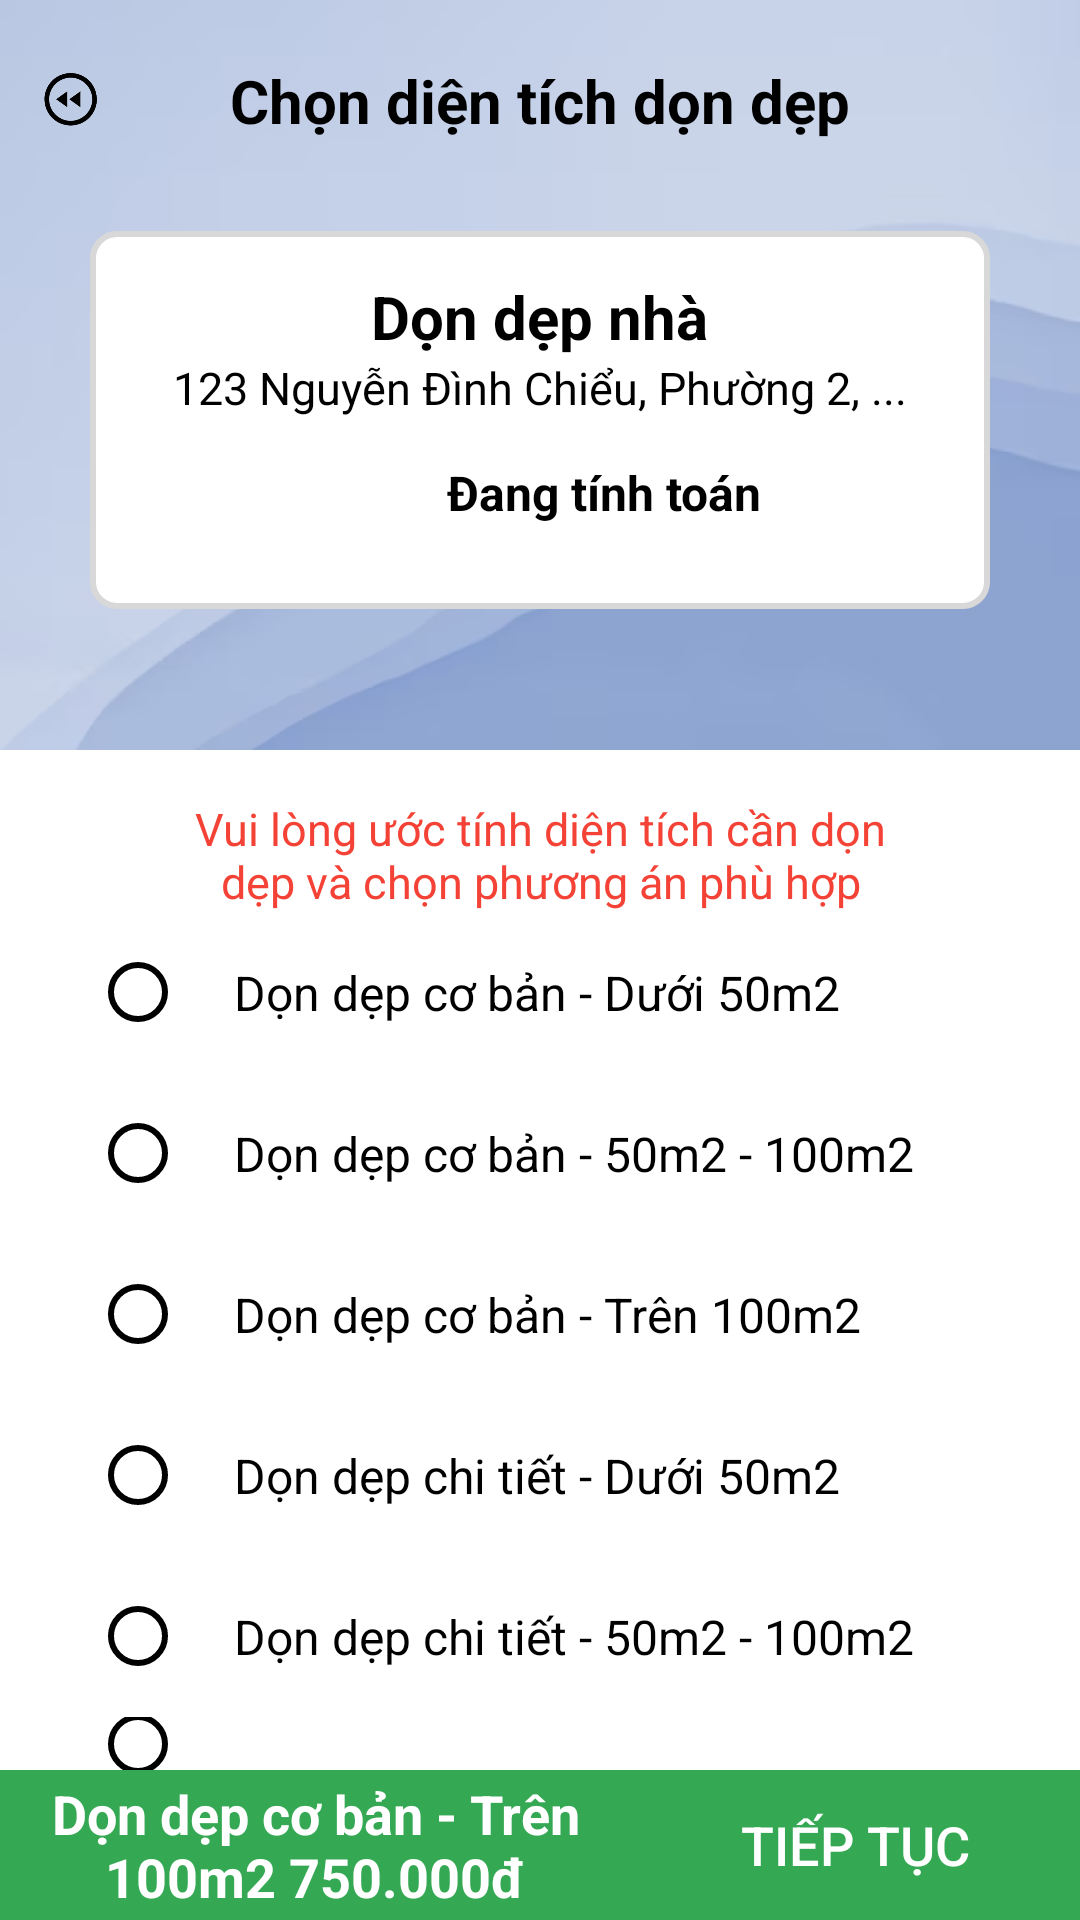

Named icons in this screenshot (1080 × 1920) and their bounding boxes, Rect(x1, y1, x2, y2):
back: Rect(44, 73, 97, 126)
